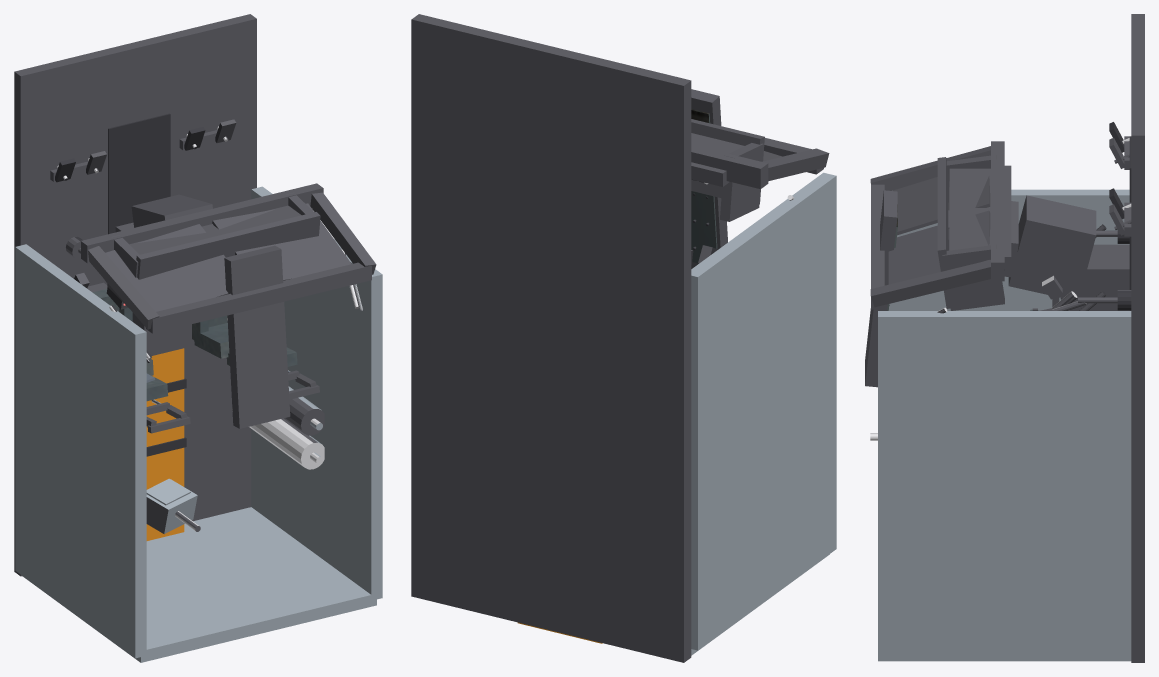
File: Helicopter_Cockpit_Modular.fbx
The picture shows the model from 3 angles, left to right: view 1: azimuth 30°, elevation 25°; view 2: azimuth 150°, elevation 25°; view 3: azimuth 270°, elevation 25°; orthographic projection. The views are drawn at different scales.
Parts seen in each view (by area): view 1: Medical_Cabin_Interior, Cockpit_Floor, Windshield_Frame, Main_Dashboard_Shroud, Overhead_Panel_Frame, Seat_Captain_Right, Seat_CoPilot_Left, 03_YawPedals_Captain, 21_YawPedals_CoPilot; view 2: Cockpit_Floor, Medical_Cabin_Interior, Main_Dashboard_Shroud, Windshield_Frame, Overhead_Panel_Frame; view 3: Medical_Cabin_Interior, Main_Dashboard_Shroud, Windshield_Frame, Cockpit_Floor, Overhead_Panel_Frame, 01_Cyclic_Captain, 03_YawPedals_Captain, 21_YawPedals_CoPilot, 02_Collective_Captain.
Part boxes in pixels (x1,y1,x2,y2): Medical_Cabin_Interior: [15, 186, 382, 662]; Cockpit_Floor: [14, 14, 256, 576]; Windshield_Frame: [81, 183, 376, 362]; Main_Dashboard_Shroud: [107, 192, 320, 355]; Overhead_Panel_Frame: [224, 245, 290, 428]; Seat_Captain_Right: [192, 315, 319, 399]; Seat_CoPilot_Left: [87, 282, 190, 433]; 03_YawPedals_Captain: [179, 119, 236, 150]; 21_YawPedals_CoPilot: [50, 151, 106, 182]; Cockpit_Floor: [411, 14, 691, 662]; Medical_Cabin_Interior: [517, 172, 836, 655]; Main_Dashboard_Shroud: [691, 119, 764, 221]; Windshield_Frame: [691, 138, 829, 200]; Overhead_Panel_Frame: [691, 89, 727, 268]; Medical_Cabin_Interior: [870, 189, 1131, 661]; Main_Dashboard_Shroud: [937, 155, 1129, 310]; Windshield_Frame: [870, 141, 1004, 313]; Cockpit_Floor: [1129, 14, 1144, 662]; Overhead_Panel_Frame: [865, 190, 897, 387]; 01_Cyclic_Captain: [1032, 290, 1131, 310]; 03_YawPedals_Captain: [1109, 188, 1131, 236]; 21_YawPedals_CoPilot: [1109, 122, 1129, 169]; 02_Collective_Captain: [1042, 275, 1106, 310].
Bounding box in the file's own units: 1.76 × 3.48 × 1.63.
